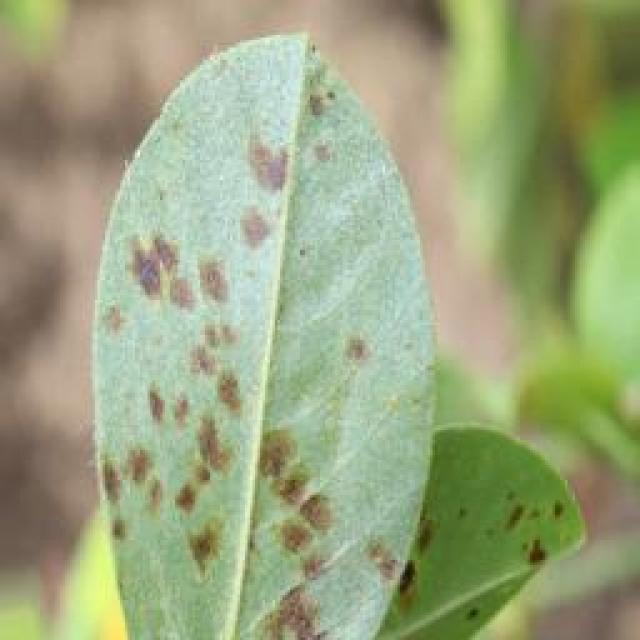Whitefly: (67, 17, 584, 640)
